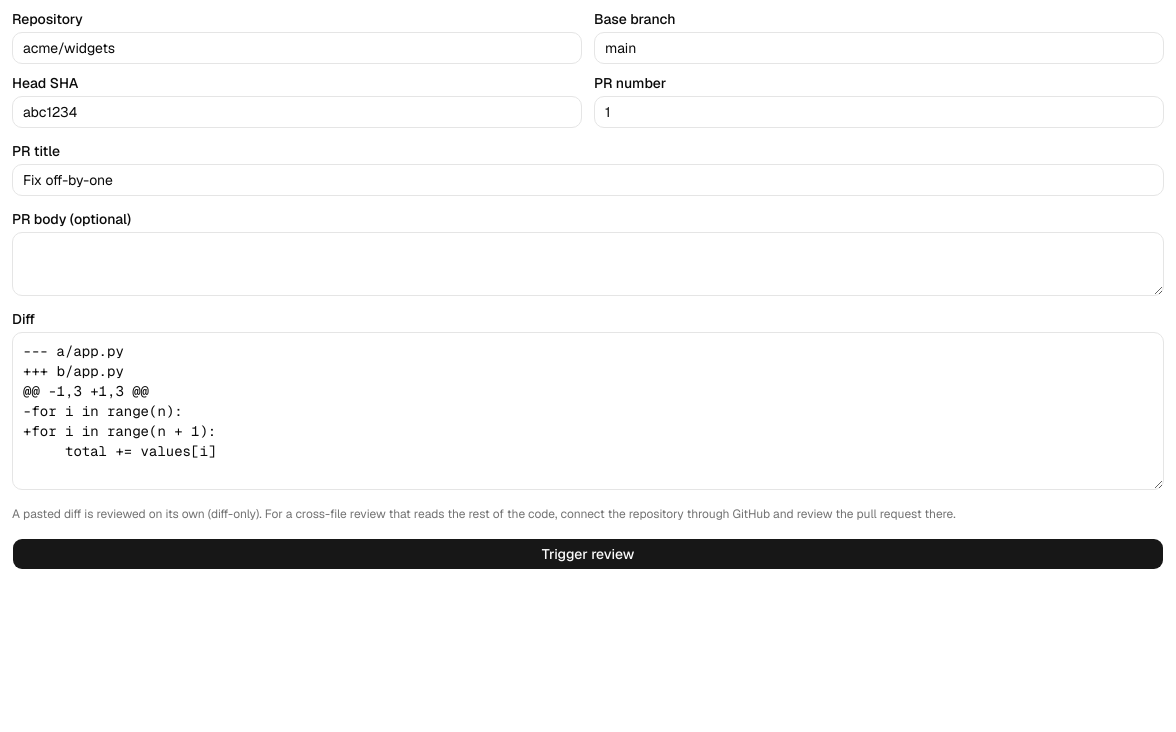
Scenario: TriggerAnalysisForm › shows the server's error message on failure
The image size is (1176, 732).
Click the button "Trigger review" at (588, 554), box [12,538,1164,570]
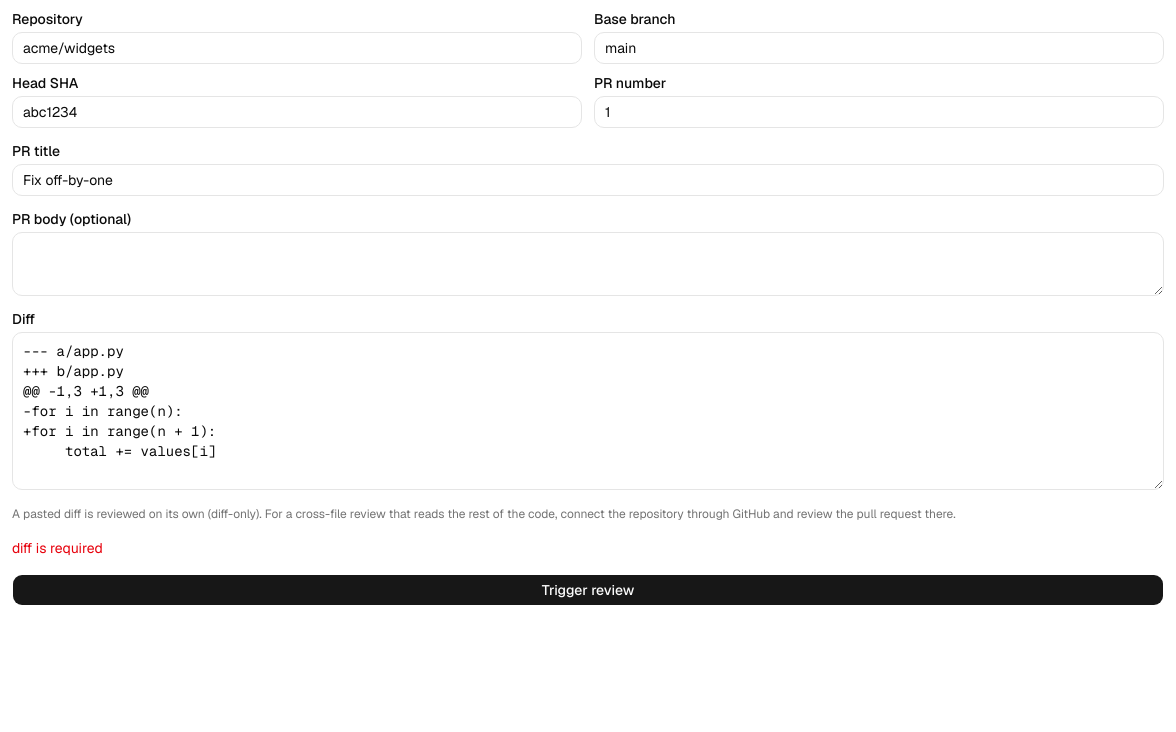
Check: the message reads "diff is required", box [12,539,103,557]
